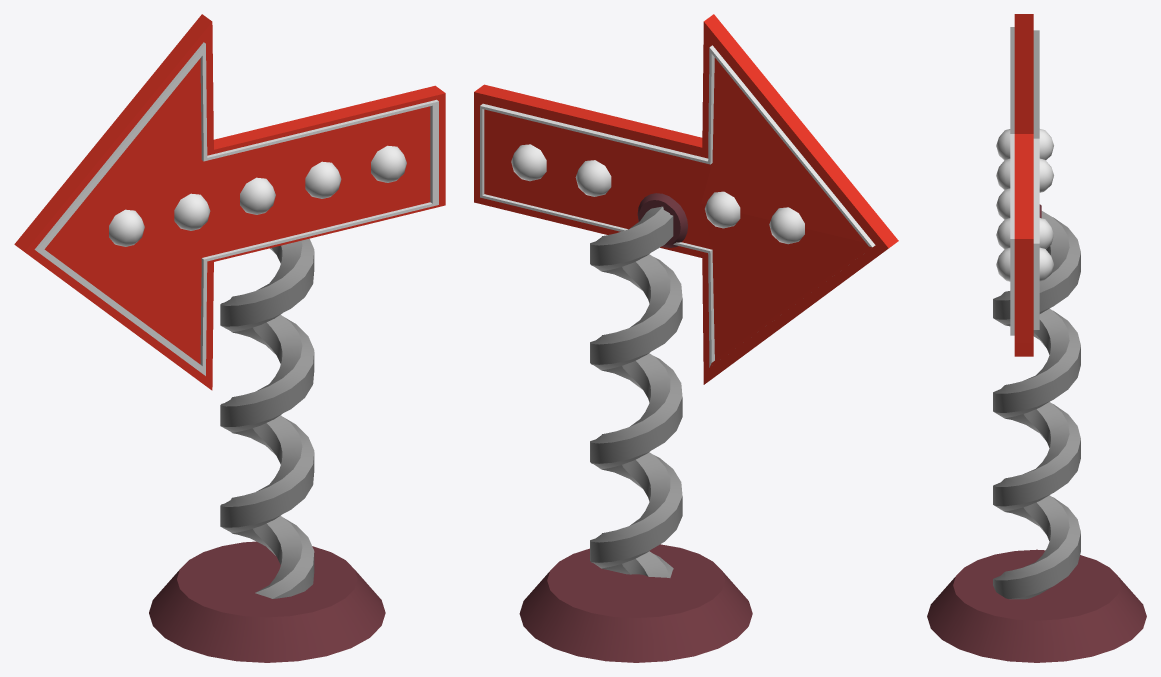
The model's file is springArrowSign.fbx.
The picture shows the model from 3 angles, left to right: view 1: azimuth 30°, elevation 25°; view 2: azimuth 150°, elevation 25°; view 3: azimuth 270°, elevation 25°; orthographic projection. The views are drawn at different scales.
Visible parts, largest first — view 1: Spring Arrow Sign; view 2: Spring Arrow Sign; view 3: Spring Arrow Sign.
Part boxes in pixels (x1,y1,x2,y2): Spring Arrow Sign: (14,14,445,662); Spring Arrow Sign: (474,14,898,662); Spring Arrow Sign: (927,14,1146,662).
Size of the model in its own units: 96.93 by 47.21 by 136.
